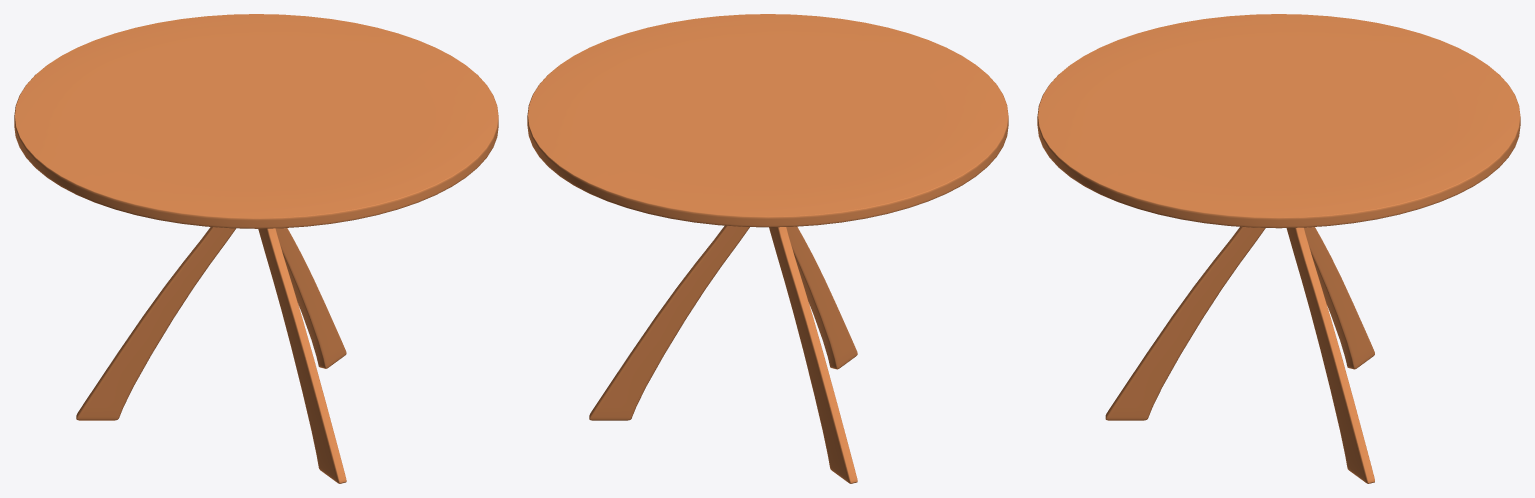
File: MSH_Lobby_Mesa.fbx
3 views of the same model, side by side, from view 1: azimuth 30°, elevation 25°; view 2: azimuth 150°, elevation 25°; view 3: azimuth 270°, elevation 25° (orthographic).
Visible parts, largest first — view 1: MSH_Lobby_Mesa; view 2: MSH_Lobby_Mesa; view 3: MSH_Lobby_Mesa.
Part boxes in pixels (x1=…): MSH_Lobby_Mesa: x1=14, y1=14, x2=498, y2=483; MSH_Lobby_Mesa: x1=527, y1=14, x2=1008, y2=483; MSH_Lobby_Mesa: x1=1037, y1=14, x2=1520, y2=483.
Size of the model in its own units: 132 by 91.81 by 132.
